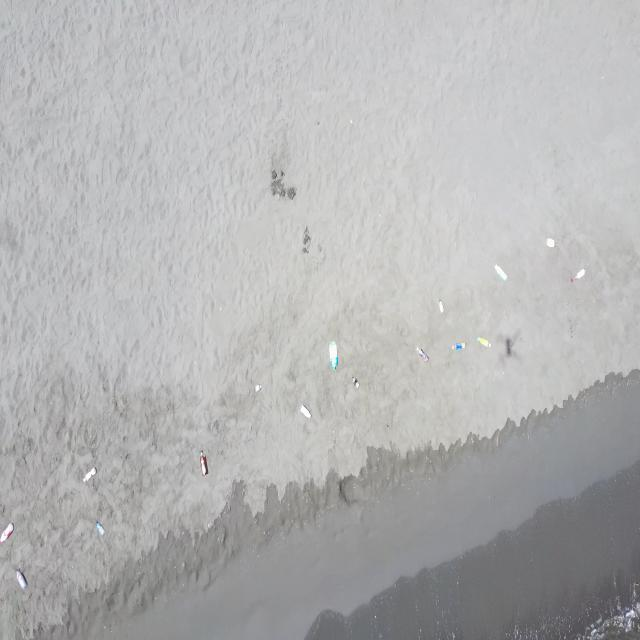plastic-bottle: (328, 339, 339, 368), (0, 523, 14, 545), (415, 344, 430, 364), (570, 268, 587, 284), (495, 264, 508, 283), (300, 406, 314, 423), (478, 334, 492, 351), (201, 452, 210, 478), (16, 568, 27, 589), (86, 466, 100, 482), (545, 237, 559, 249), (451, 342, 466, 352), (352, 374, 360, 392), (98, 521, 106, 535), (254, 382, 263, 394), (441, 301, 446, 315)
